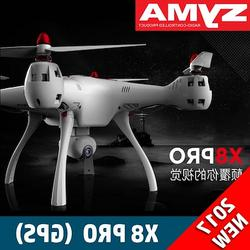drone: (1, 30, 213, 206)
